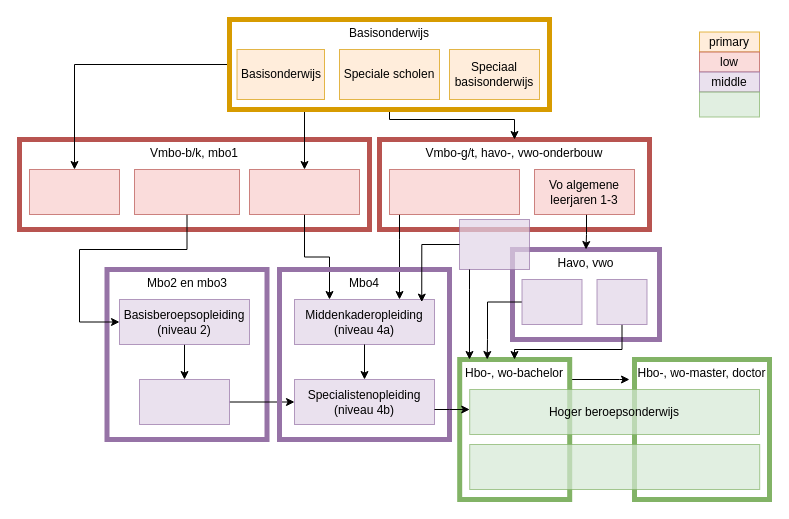
This 789x519 diagram has some shape labels left out. The centre of each missing label's shape, as x and y in pixels:
Assistentopleiding (niveau 1): point 187,191
Havo 3-5: point 551,301
high: point 729,104
Praktijkonderwijs: point 74,191
Vakopleiding (niveau 3): point 184,401
Vavo: point 494,244
Vmbo basis-kaderberoeps 3-4: point 304,191
Vmbo theoretische-gemengde leerweg 3-4: point 454,191
Vwo 3-6: point 621,301
Wetenschappelijk onderwijs: point 614,467
